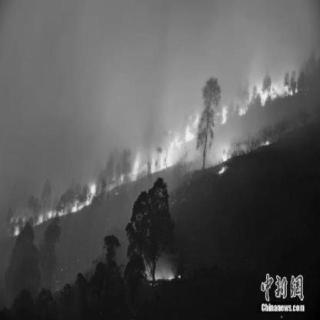Fire: (104, 86, 236, 176), (9, 184, 106, 234), (225, 57, 307, 113), (142, 265, 184, 289), (259, 133, 273, 146)
